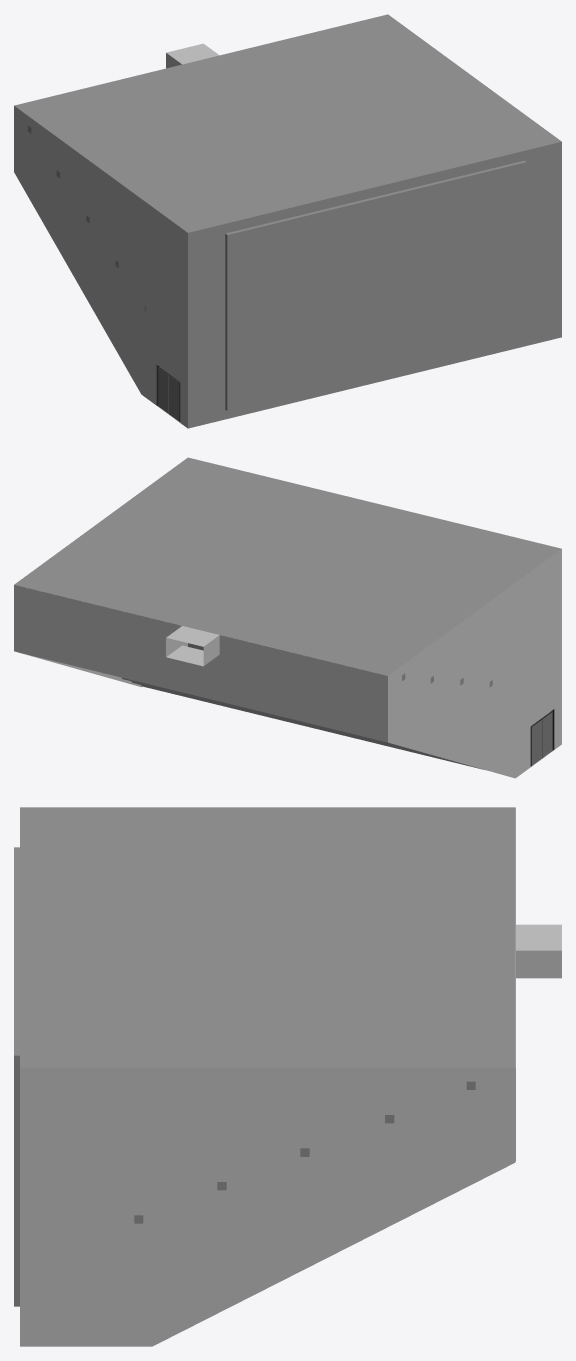
Rendered from Theater_Wall_poly.FBX.
3 views of the same model, one above another, from view 1: azimuth 30°, elevation 25°; view 2: azimuth 150°, elevation 25°; view 3: azimuth 270°, elevation 25° (orthographic). The views are drawn at different scales.
Parts seen in each view (by area): view 1: Theater_Wall_poly; view 2: Theater_Wall_poly; view 3: Theater_Wall_poly.
Part boxes in pixels (x1=…): Theater_Wall_poly: x1=14, y1=14, x2=561, y2=428; Theater_Wall_poly: x1=14, y1=457, x2=561, y2=778; Theater_Wall_poly: x1=14, y1=807, x2=561, y2=1346.
Bounding box in the file's own units: 2000 × 1000 × 1780.
